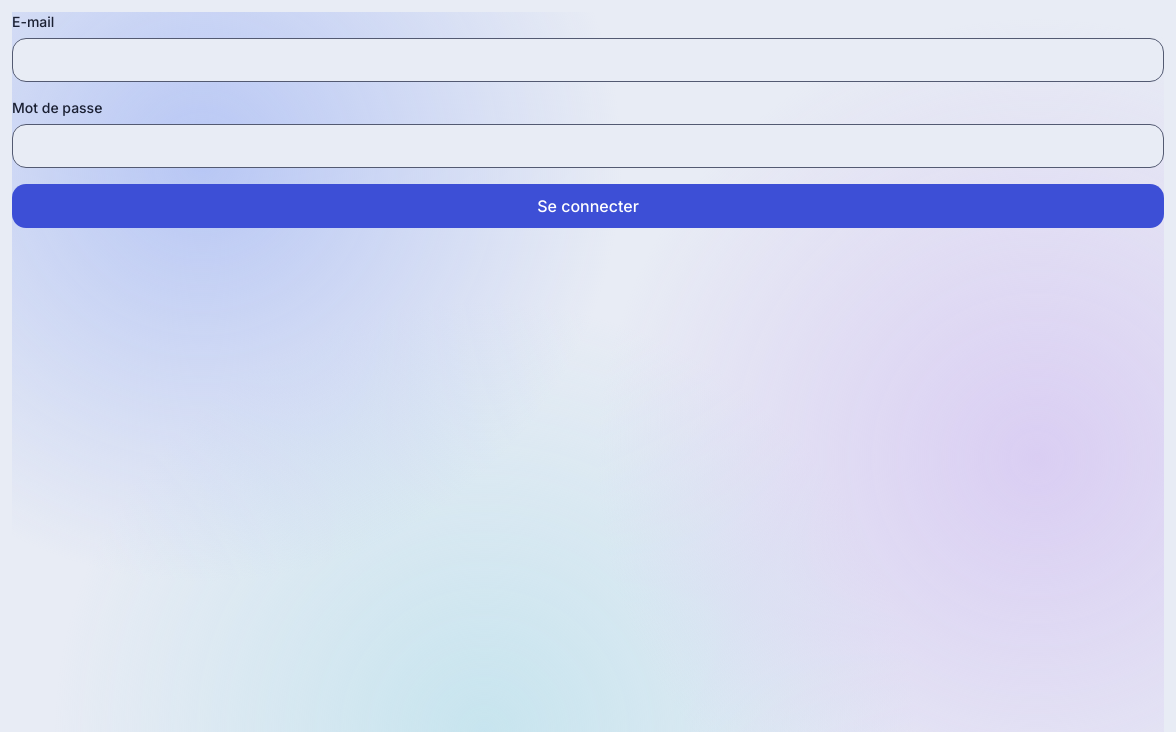
Scenario: formulaire de connexion › un envoi rejeté affiche le message trop de tentatives dans le formulaire et garde l'e-mail
In the field labelled "E-mail": (588, 60) [12,38,1164,82], type "a@example.test"
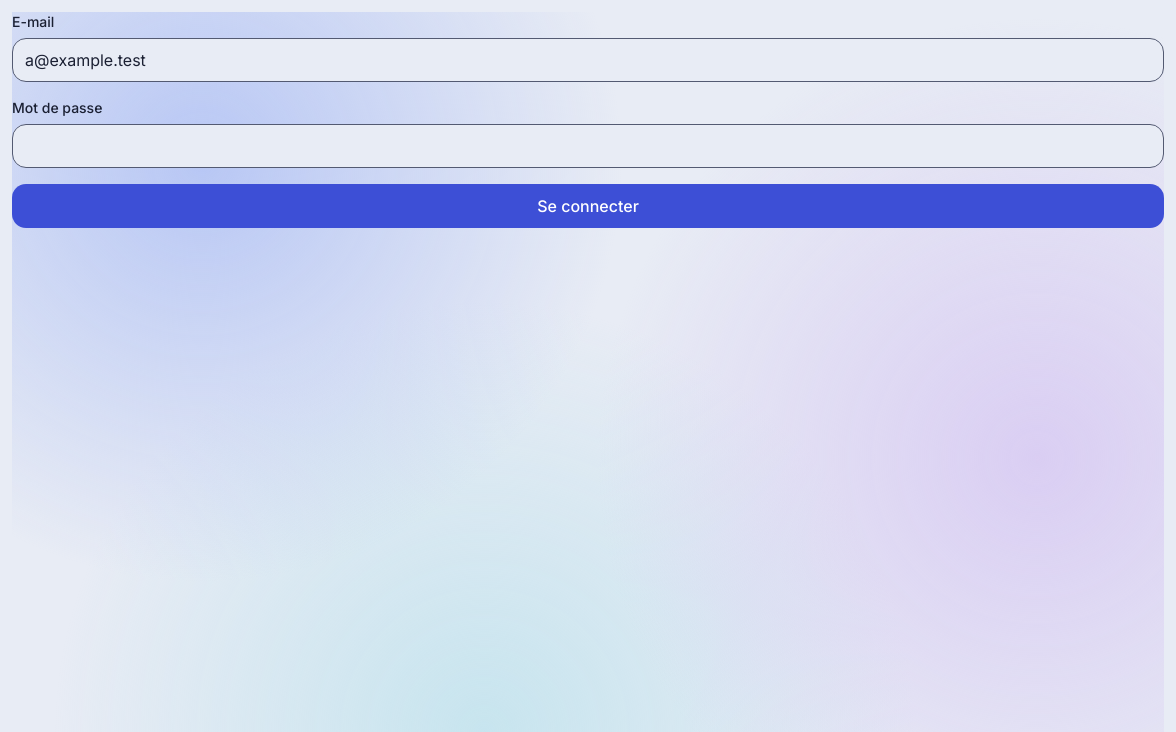
In the password field labelled "Mot de passe": (588, 146) [12,124,1164,168], type "mot-de-passe"
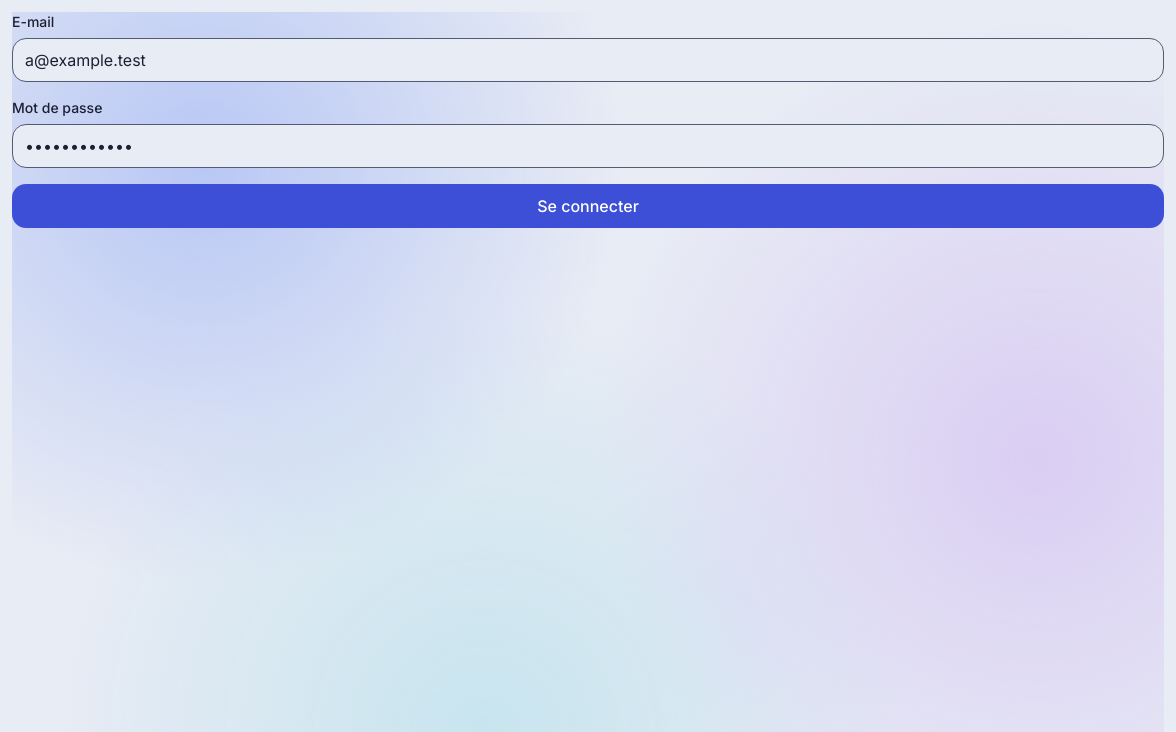
Click the button "Se connecter": (588, 206) [12,184,1164,228]
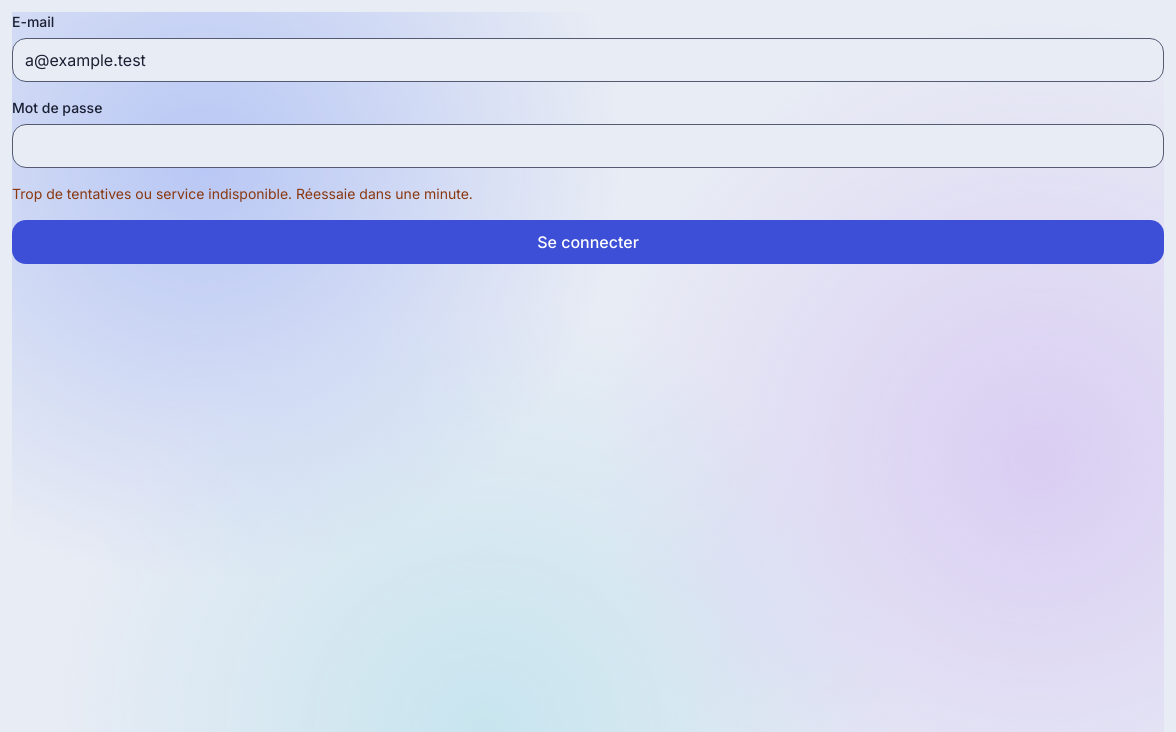
Expected: the message reads "Trop de tentatives ou service indisponible. Réessaie dans une minute.", [12,185,473,202]
